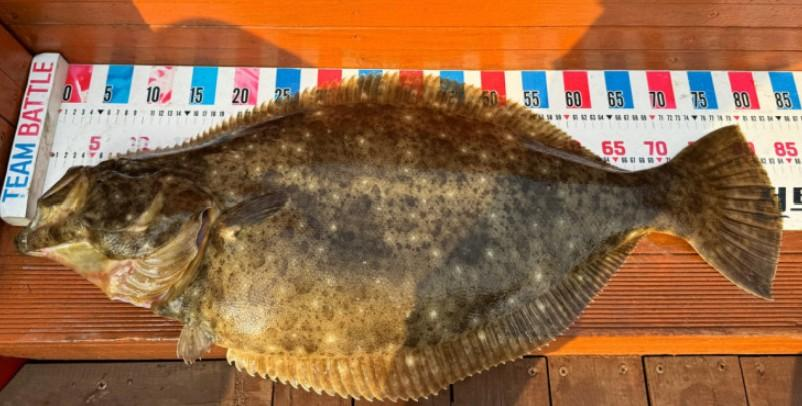fish: (15, 77, 786, 405)
